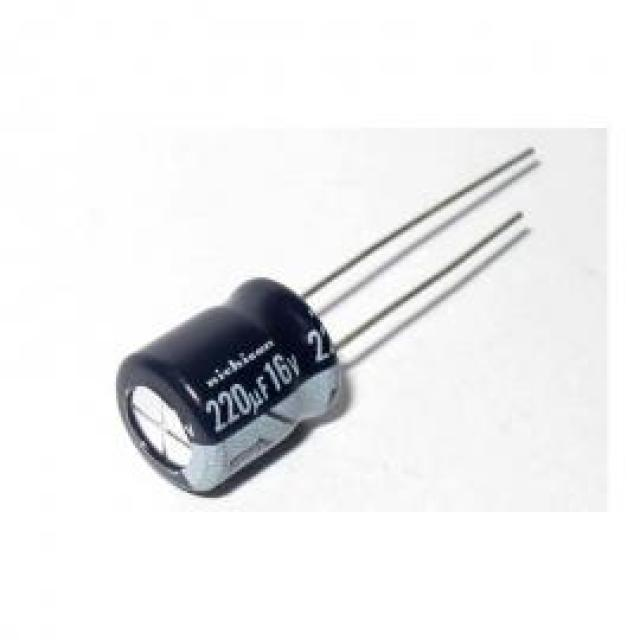Capacitor: (116, 152, 543, 500)
